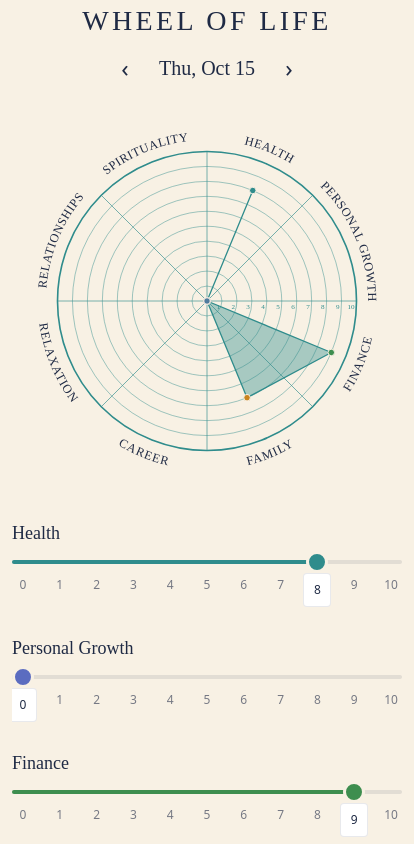
it: RateView › rolls back to the last saved value on an { ok: false } result
Set the slider labelled "Finance" to "6" at (244, 792), box x1=12 y1=781 x2=402 y2=803
Wait 400 ms
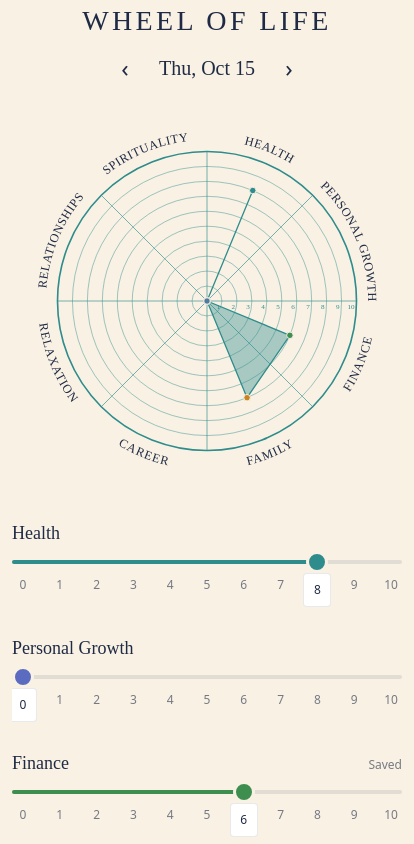
Set the slider labelled "Finance" to "2" at (95, 792), box x1=12 y1=781 x2=402 y2=803
Wait 400 ms
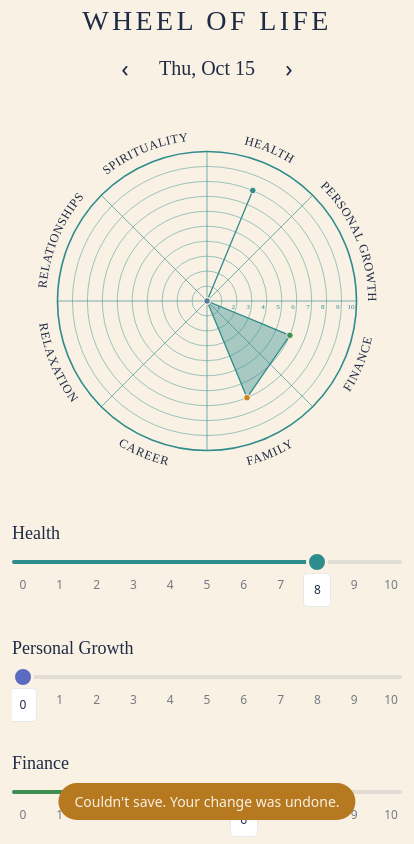
Expected: the message "Couldn't save. Your change was undone." is shown, x1=58 y1=783 x2=356 y2=820
